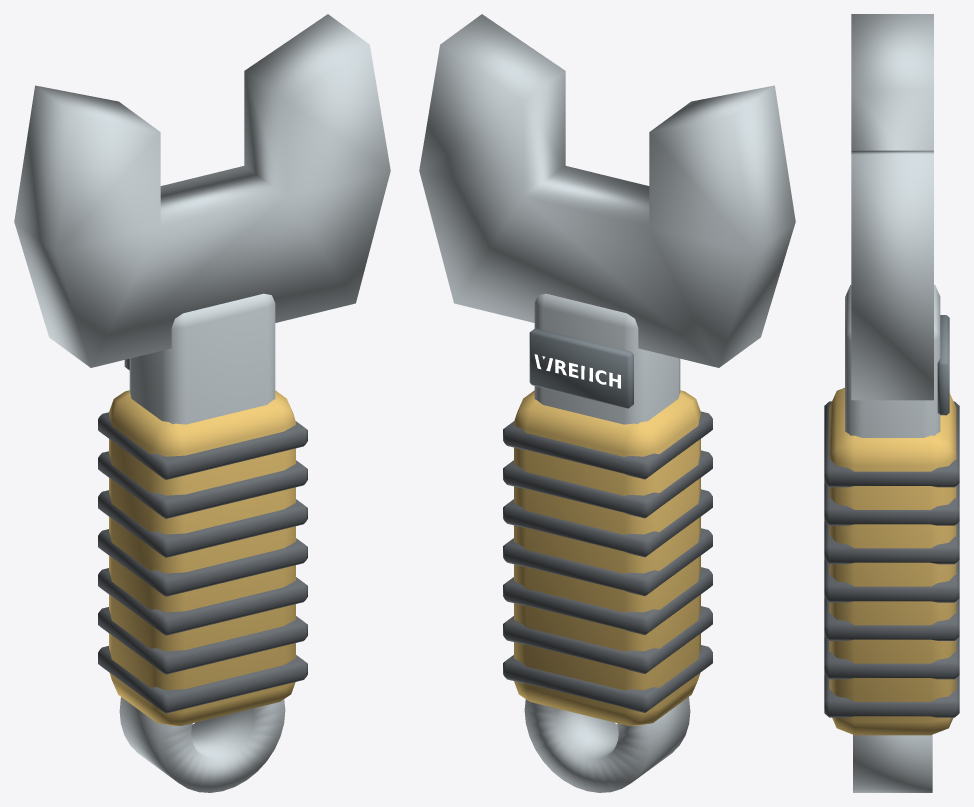
File: wrench_enhanced.glb
The picture shows the model from 3 angles, left to right: view 1: azimuth 30°, elevation 25°; view 2: azimuth 150°, elevation 25°; view 3: azimuth 270°, elevation 25°; orthographic projection.
Parts seen in each view (by area): view 1: WrenchHead_steel, GripHousing_gold, GripRib_rubber, Shank_steel, LanyardRing_steel; view 2: WrenchHead_steel, GripHousing_gold, GripRib_rubber, LanyardRing_steel, Shank_steel, Nameplate_frame, TypeLabel_white; view 3: WrenchHead_steel, GripHousing_gold, GripRib_rubber, Shank_steel, LanyardRing_steel, Nameplate_frame.
Boxes of the visible parts, bbox=[...] form: WrenchHead_steel: bbox=[14, 14, 390, 367]; GripHousing_gold: bbox=[109, 390, 295, 725]; GripRib_rubber: bbox=[98, 412, 307, 713]; Shank_steel: bbox=[129, 293, 275, 424]; LanyardRing_steel: bbox=[119, 697, 285, 792]; WrenchHead_steel: bbox=[419, 14, 795, 367]; GripHousing_gold: bbox=[514, 390, 700, 725]; GripRib_rubber: bbox=[503, 411, 712, 712]; LanyardRing_steel: bbox=[524, 697, 690, 792]; Shank_steel: bbox=[534, 293, 680, 424]; Nameplate_frame: bbox=[529, 328, 633, 408]; TypeLabel_white: bbox=[534, 354, 620, 388]; WrenchHead_steel: bbox=[851, 14, 933, 400]; GripHousing_gold: bbox=[829, 388, 956, 735]; GripRib_rubber: bbox=[824, 401, 959, 717]; Shank_steel: bbox=[845, 285, 940, 437]; LanyardRing_steel: bbox=[853, 734, 932, 792]; Nameplate_frame: bbox=[937, 315, 949, 415].
Bounding box in the file's own units: 0.48 × 0.975 × 0.17.
